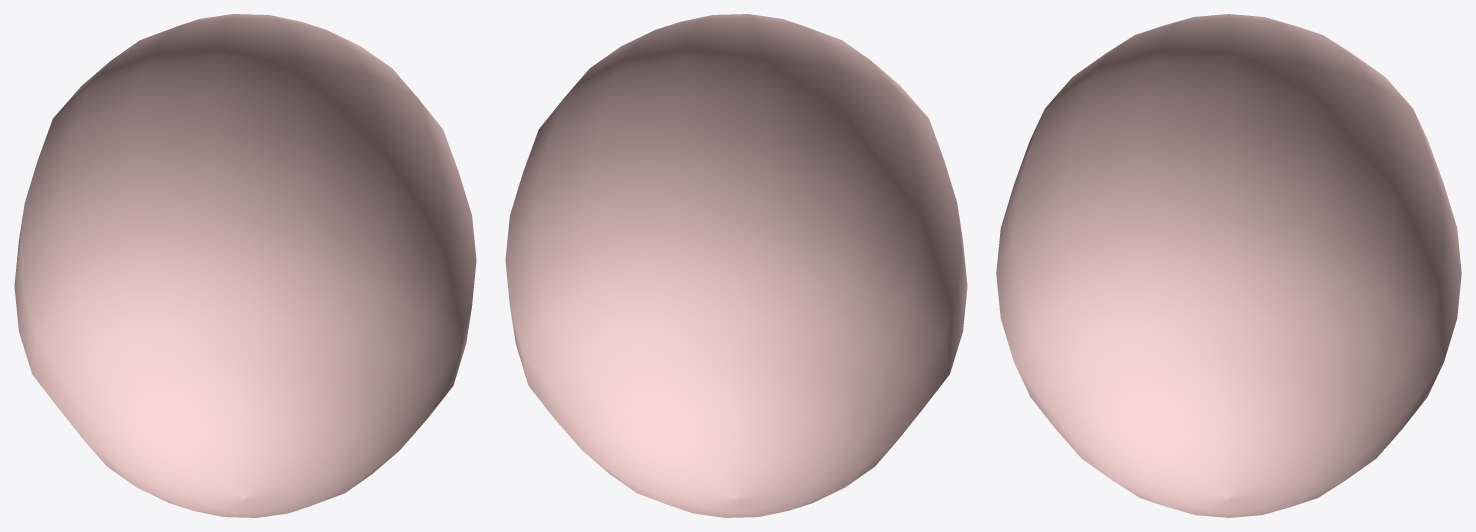
File: oval.gltf
3 renders of one model, left to right at view 1: azimuth 30°, elevation 25°; view 2: azimuth 150°, elevation 25°; view 3: azimuth 270°, elevation 25°, orthographic.
Size of the model in its own units: 1.22 by 1.35 by 1.22.
